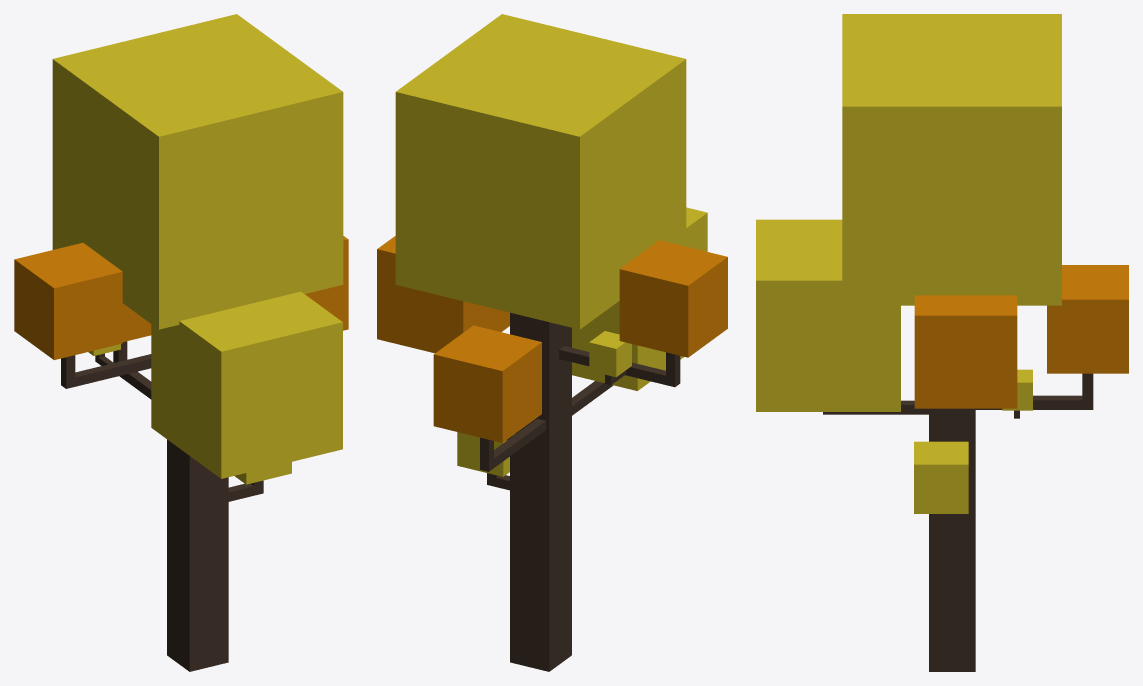
Rendered from Yellow_Tree.fbx.
3 views of the same model, side by side, from view 1: azimuth 30°, elevation 25°; view 2: azimuth 150°, elevation 25°; view 3: azimuth 270°, elevation 25° (orthographic). The views are drawn at different scales.
Parts seen in each view (by area): view 1: Tree_3; view 2: Tree_3; view 3: Tree_3.
Part boxes in pixels (bbox=[...]): Tree_3: bbox=[14, 14, 348, 671]; Tree_3: bbox=[377, 14, 727, 671]; Tree_3: bbox=[756, 14, 1128, 671].
Bounding box in the file's own units: 564 × 1057 × 594.
